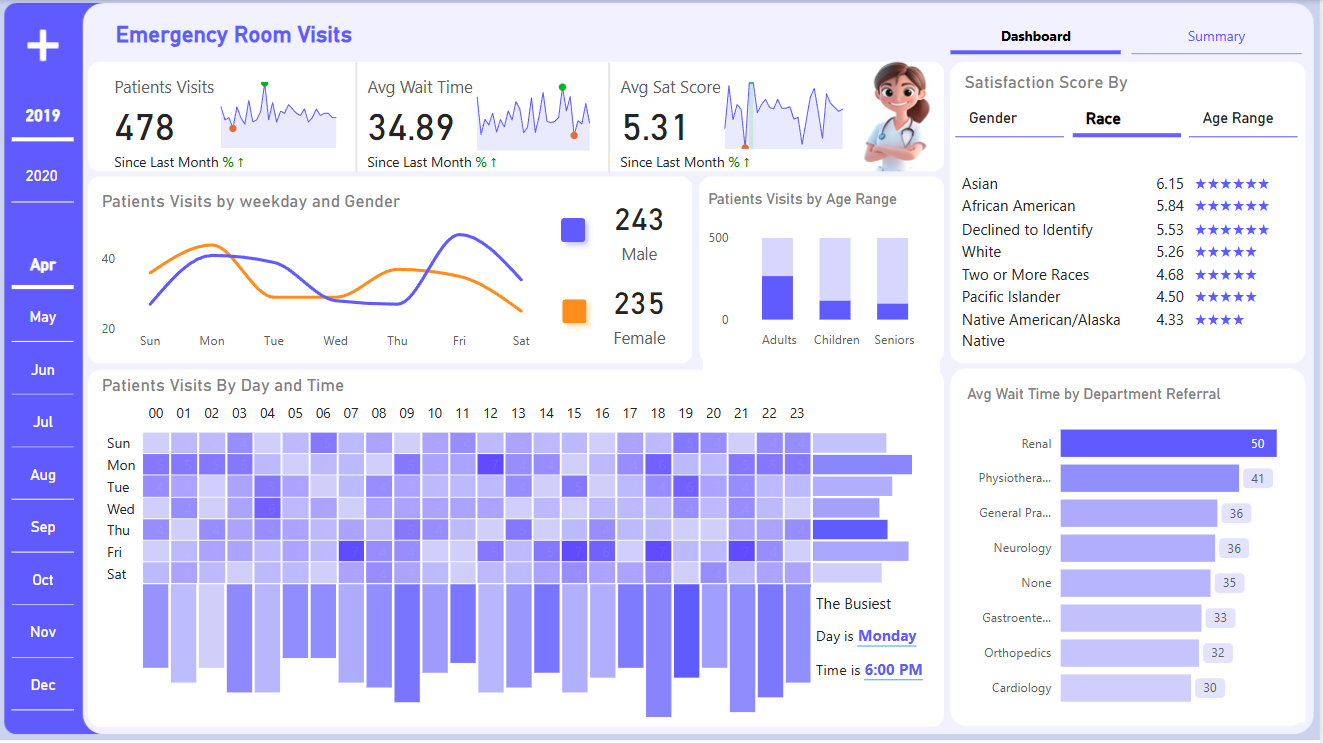

The dashboard page shown, as its layout file describes it:
{"tool":"powerbi","page":{"name":"Dashboard","canvas":[1280,720],"ordinal":0},"visuals":[{"type":"advancedSlicerVisual","fields":{"Values":["Calendar.Year"]},"box":[8.5,81.1,70.2,121],"z":0},{"type":"advancedSlicerVisual","fields":{"Values":["Calendar.Month"]},"box":[8.5,225.2,70.2,473.3],"z":1000},{"type":"cardVisual","fields":{"Data":["All Measures.Patients Visits","All Measures.Avg Wait Time","All Measures.Avg Satisfaction Score"]},"box":[95.2,55.5,737.9,117.7],"z":2000},{"type":"areaChart","fields":{"Y":["All Measures.Patients Visits","All Measures.Patients Visits Max Value","All Measures.Patients Visits Min Value"],"Category":["Calendar.Day"]},"box":[197,66.6,145.4,82.9],"z":3000},{"type":"areaChart","fields":{"Y":["All Measures.Avg Wait Time","All Measures.Avg Wait Time Min Value","All Measures.Avg Wait Time Max Value"],"Category":["Calendar.Day"]},"box":[445.7,65.2,142.7,85.6],"z":4000},{"type":"areaChart","fields":{"Y":["All Measures.Avg Satisfaction Score","All Measures.Avg Satisfaction Score Max Value","All Measures.Avg Satisfaction Score Min Value"],"Category":["Calendar.Day"]},"box":[684.8,66.6,148.1,82.9],"z":5000},{"type":"lineChart","fields":{"Y":["All Measures.Patients Visits"],"Category":["Calendar.Weekday"],"Series":["Hospital ER.Gender"]},"box":[95.1,183.4,440.3,164.4],"z":6000},{"type":"card","fields":{"Values":["All Measures.Patients Visits"]},"box":[576.8,180.3,87.6,81],"z":7000},{"type":"card","fields":{"Values":["All Measures.Patients Visits"]},"box":[576.8,261.3,87.6,81],"z":8000},{"type":"shape","box":[535.8,201.8,41.3,41.3],"z":9000},{"type":"shape","box":[537.5,281.1,41.3,41.3],"z":10000},{"type":"clusteredColumnChart","title":"Patients Visits by Age Range","fields":{"Y":["All Measures.Patients Visits","All Measures.Patients Visits Dummy"],"Category":["Hospital ER.Age (groups)"]},"box":[682.1,183.4,229.6,176.6],"z":11000},{"type":"tableEx","fields":{"Values":["Hospital ER.Race","All Measures.Avg Satisfaction Score","All Measures.Score Rating"]},"box":[922.9,131.4,342.9,214.3],"z":12000},{"type":"advancedSlicerVisual","fields":{"Values":["Sat_Param 2.Sat_Param"]},"box":[922.9,87.1,342.9,51.4],"z":13000},{"type":"clusteredBarChart","fields":{"Y":["All Measures.Avg Wait Time"],"Category":["Hospital ER.Department Referral"]},"box":[933.5,372.3,332.9,326.1],"z":14000},{"type":"pivotTable","fields":{"Rows":["Calendar.Weekday"],"Columns":["Hospital ER.Hour"],"Values":["All Measures.Patients Visits"]},"box":[95.7,383.3,697.1,201.4],"z":15000},{"type":"clusteredBarChart","fields":{"Y":["All Measures.Patients Visits"],"Category":["Calendar.Weekday"]},"box":[784.3,406.1,122.9,162.9],"z":16000},{"type":"clusteredColumnChart","fields":{"Category":["Hospital ER.Hour"],"Y":["All Measures.Patients Visits"]},"box":[135.7,551.9,657.1,162.9],"z":17000},{"type":"textbox","box":[786.3,569.4,126.3,31.1],"z":18000},{"type":"textbox","box":[786.3,600.4,126.3,32.6],"z":19000},{"type":"textbox","box":[786.3,633.1,126.3,33.7],"z":20000},{"type":"textbox","box":[95.7,358.6,321.4,30],"z":21000},{"type":"textbox","box":[931.4,64.3,321.4,30],"z":22000},{"type":"textbox","box":[108.6,15.7,427.1,41.4],"z":23000},{"type":"pageNavigator","box":[922.9,15.7,341.4,37.1],"z":24000},{"type":"image","box":[2.9,1.4,82.9,82.9],"z":24001}]}

Visuals, with their boxes in screenshot pixels (x1, y1, x2, y2), scaled from the page's 1280x720 canvas onto the 1323x743 screenshot:
advancedSlicerVisual - Calendar.Year: {"left": 9, "top": 84, "right": 81, "bottom": 209}
advancedSlicerVisual - Calendar.Month: {"left": 9, "top": 232, "right": 81, "bottom": 721}
cardVisual - All Measures.Patients Visits x All Measures.Avg Wait Time: {"left": 98, "top": 57, "right": 861, "bottom": 179}
areaChart - All Measures.Patients Visits x All Measures.Patients Visits Max Value: {"left": 204, "top": 69, "right": 354, "bottom": 154}
areaChart - All Measures.Avg Wait Time x All Measures.Avg Wait Time Min Value: {"left": 461, "top": 67, "right": 608, "bottom": 156}
areaChart - All Measures.Avg Satisfaction Score x All Measures.Avg Satisfaction Score Max Value: {"left": 708, "top": 69, "right": 861, "bottom": 154}
lineChart - All Measures.Patients Visits x Calendar.Weekday: {"left": 98, "top": 189, "right": 553, "bottom": 359}
card - All Measures.Patients Visits: {"left": 596, "top": 186, "right": 687, "bottom": 270}
card - All Measures.Patients Visits: {"left": 596, "top": 270, "right": 687, "bottom": 353}
shape: {"left": 554, "top": 208, "right": 596, "bottom": 251}
shape: {"left": 556, "top": 290, "right": 598, "bottom": 333}
"Patients Visits by Age Range" clusteredColumnChart: {"left": 705, "top": 189, "right": 942, "bottom": 372}
tableEx - Hospital ER.Race x All Measures.Avg Satisfaction Score: {"left": 954, "top": 136, "right": 1308, "bottom": 357}
advancedSlicerVisual - Sat_Param 2.Sat_Param: {"left": 954, "top": 90, "right": 1308, "bottom": 143}
clusteredBarChart - All Measures.Avg Wait Time x Hospital ER.Department Referral: {"left": 965, "top": 384, "right": 1309, "bottom": 721}
pivotTable - Calendar.Weekday x Hospital ER.Hour: {"left": 99, "top": 396, "right": 819, "bottom": 603}
clusteredBarChart - All Measures.Patients Visits x Calendar.Weekday: {"left": 811, "top": 419, "right": 938, "bottom": 587}
clusteredColumnChart - Hospital ER.Hour x All Measures.Patients Visits: {"left": 140, "top": 570, "right": 819, "bottom": 738}
textbox: {"left": 813, "top": 588, "right": 943, "bottom": 620}
textbox: {"left": 813, "top": 620, "right": 943, "bottom": 653}
textbox: {"left": 813, "top": 653, "right": 943, "bottom": 688}
textbox: {"left": 99, "top": 370, "right": 431, "bottom": 401}
textbox: {"left": 963, "top": 66, "right": 1295, "bottom": 97}
textbox: {"left": 112, "top": 16, "right": 554, "bottom": 59}
pageNavigator: {"left": 954, "top": 16, "right": 1307, "bottom": 54}
image: {"left": 3, "top": 1, "right": 89, "bottom": 87}
